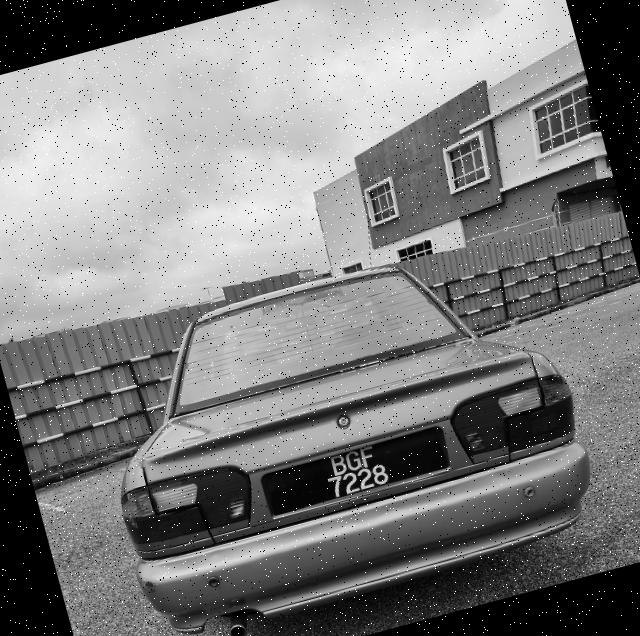License_Plate: (273, 425, 435, 520)
car: (65, 220, 616, 636)
